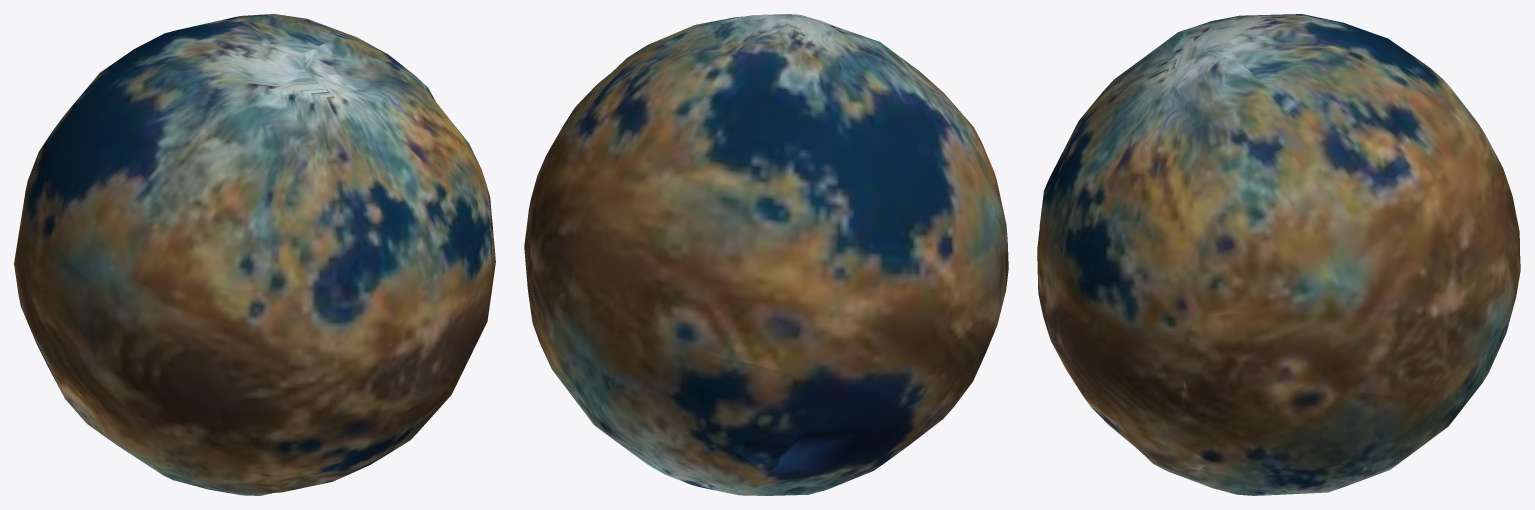
File: planet_13-lod.glb
3 renders of one model, left to right at view 1: azimuth 30°, elevation 25°; view 2: azimuth 150°, elevation 25°; view 3: azimuth 270°, elevation 25°, orthographic.
Visible parts, largest first — view 1: Mesh_0.001; view 2: Mesh_0.001; view 3: Mesh_0.001.
Boxes of the visible parts, x1,y1,x2,y2 form: Mesh_0.001: (14,14,495,495); Mesh_0.001: (524,14,1008,495); Mesh_0.001: (1037,14,1520,495).
Size of the model in its own units: 1.9 by 1.9 by 1.9.
Materials: 1 (1 with a texture image).
